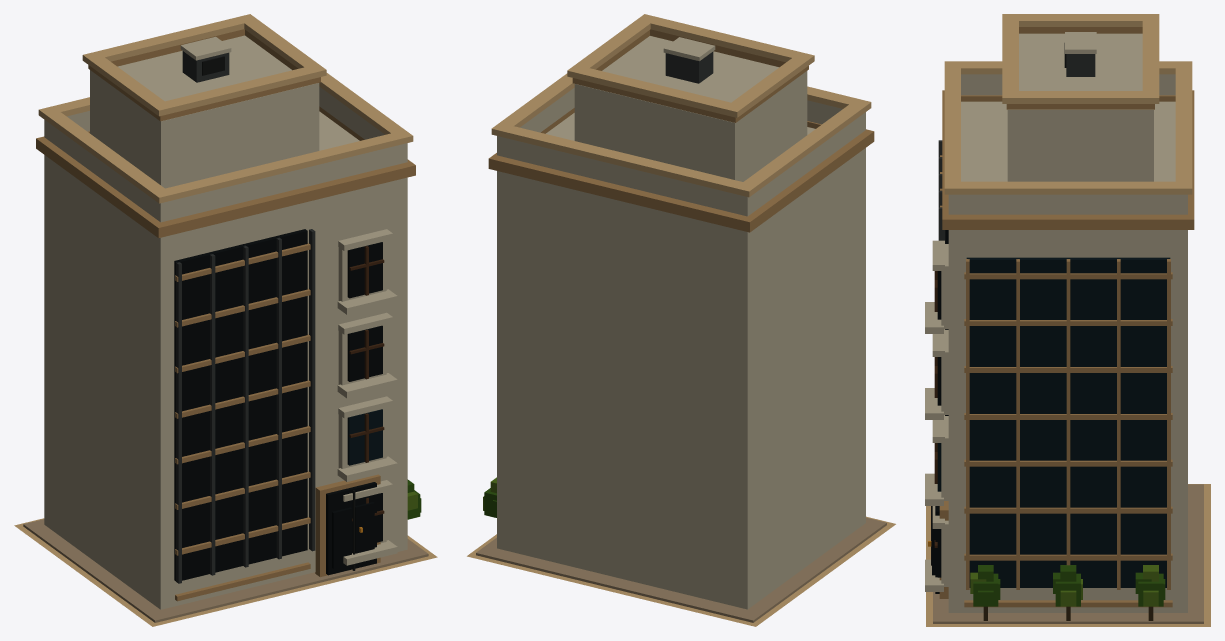
Rendered from SM_Mapa_002.fbx.
3 views of the same model, side by side, from view 1: azimuth 30°, elevation 25°; view 2: azimuth 150°, elevation 25°; view 3: azimuth 270°, elevation 25° (orthographic). The views are drawn at different scales.
Visible parts, largest first — view 1: SM_Mapa_002; view 2: SM_Mapa_002; view 3: SM_Mapa_002.
Part boxes in pixels (box(x1,y1,x2,y2)): SM_Mapa_002: box(14, 14, 437, 626); SM_Mapa_002: box(467, 14, 895, 626); SM_Mapa_002: box(925, 14, 1210, 626).
Bounding box in the file's own units: 8 × 6.55 × 12.83.
